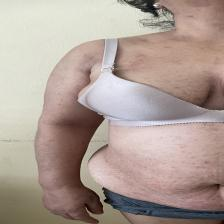DA: (40, 113, 99, 138)
